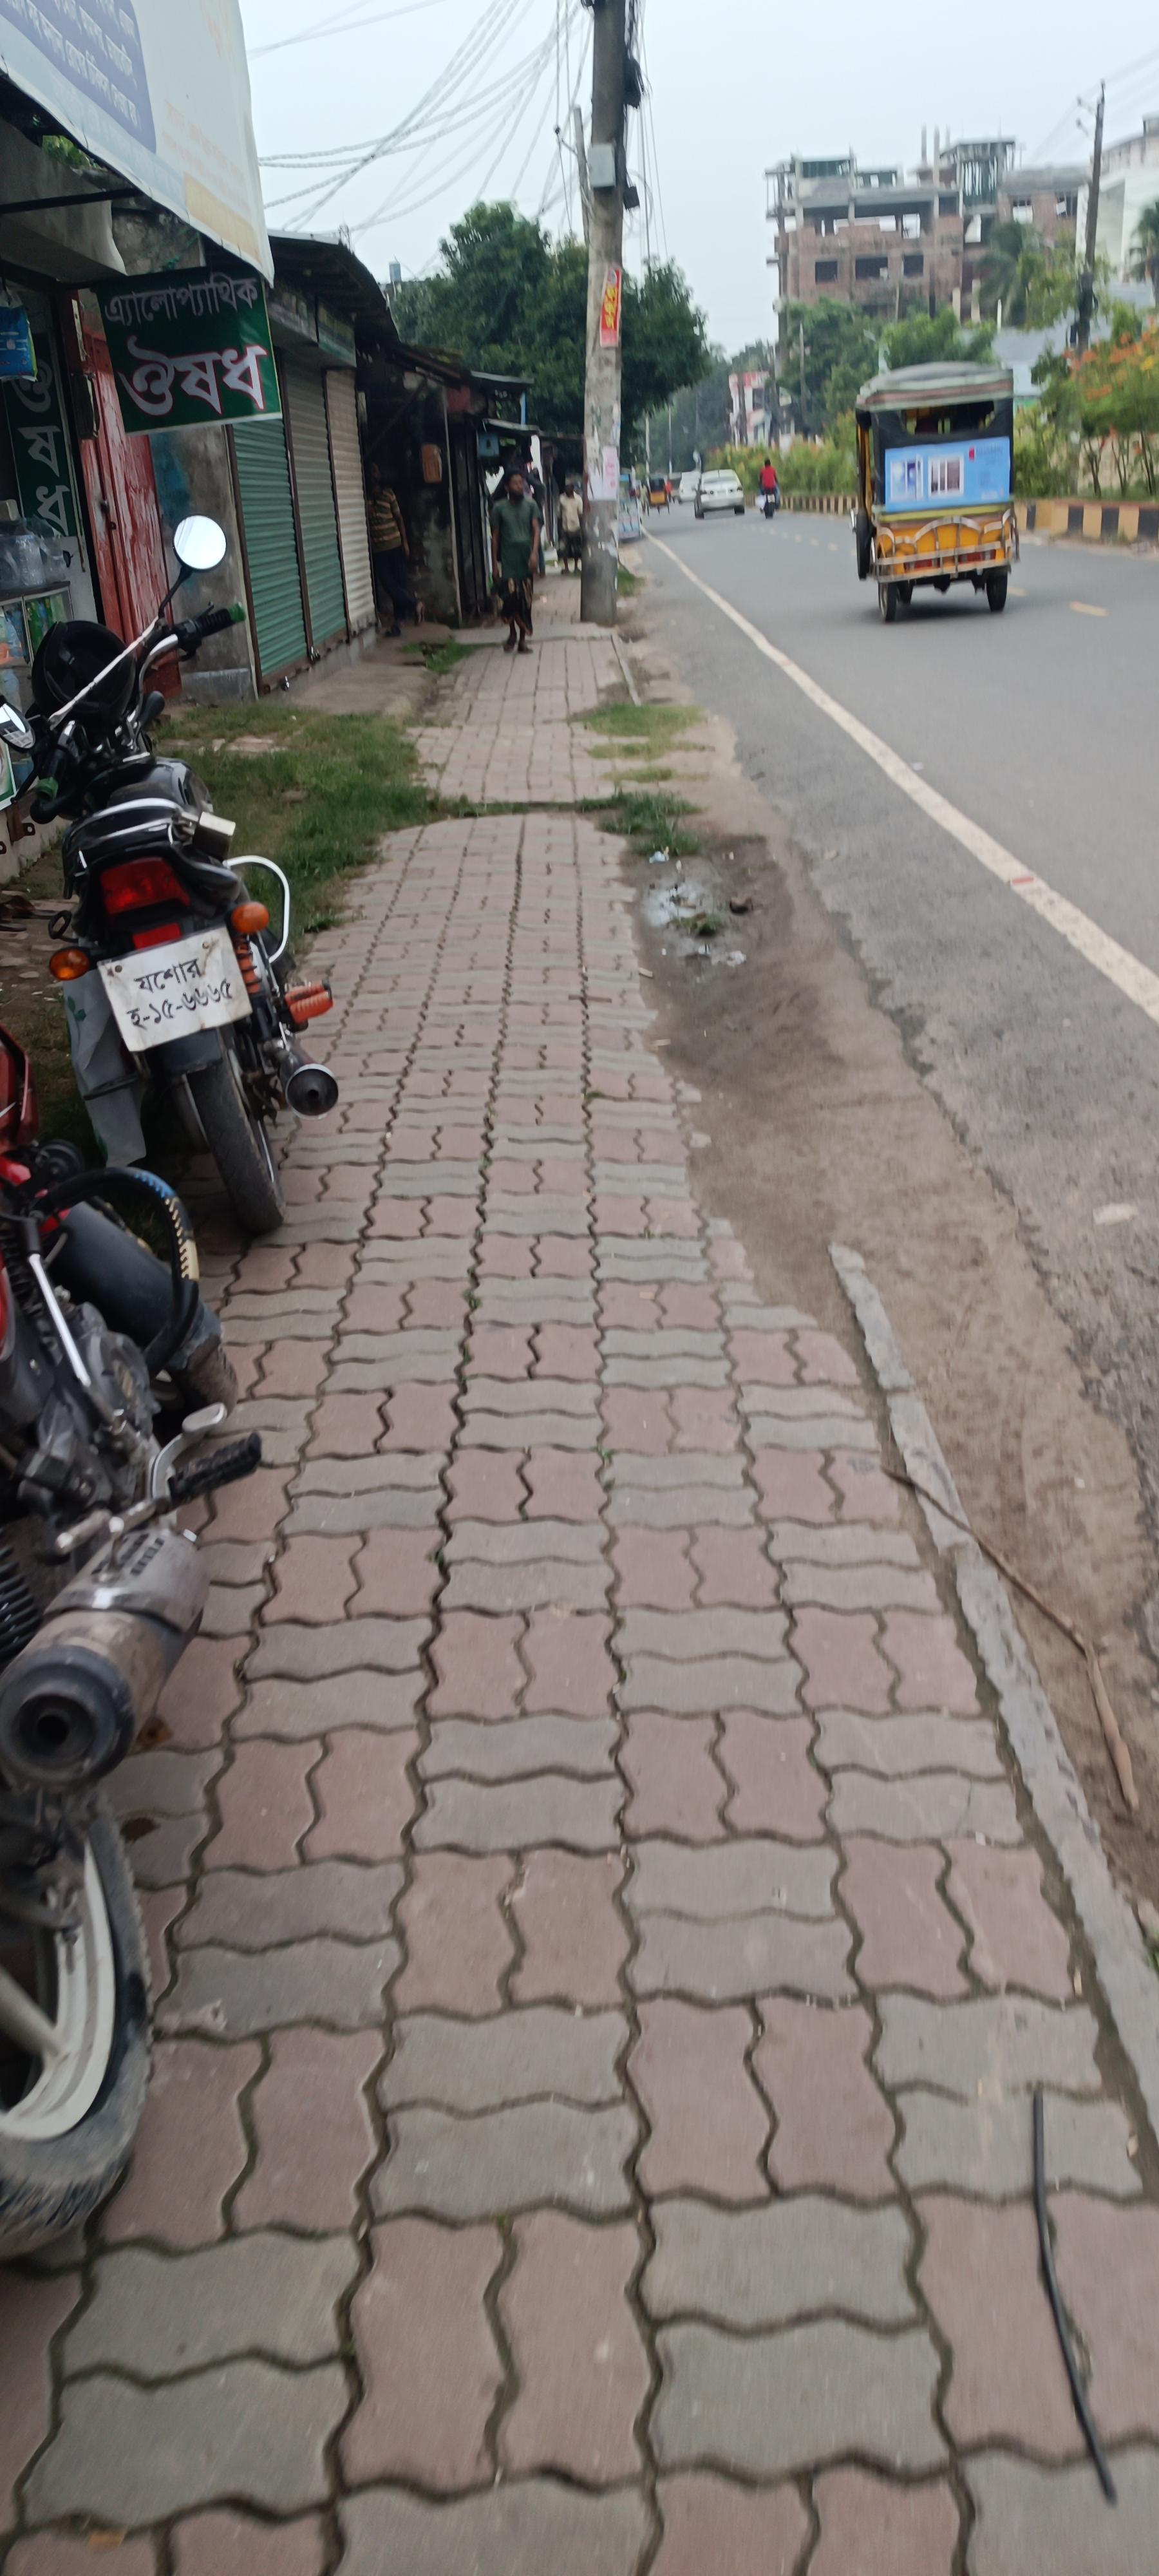Crosswalk: (499, 578, 534, 652)
Fallen-tree: (0, 1022, 261, 2262), (16, 514, 340, 1234)
Garbage-bin: (491, 470, 545, 652), (368, 460, 420, 636), (557, 478, 586, 575), (760, 458, 781, 517)
Light-pole: (576, 2, 630, 624)
Pothole: (5, 542, 1154, 2569), (240, 644, 1159, 2556)
Traffic-cone: (849, 356, 1024, 621)
